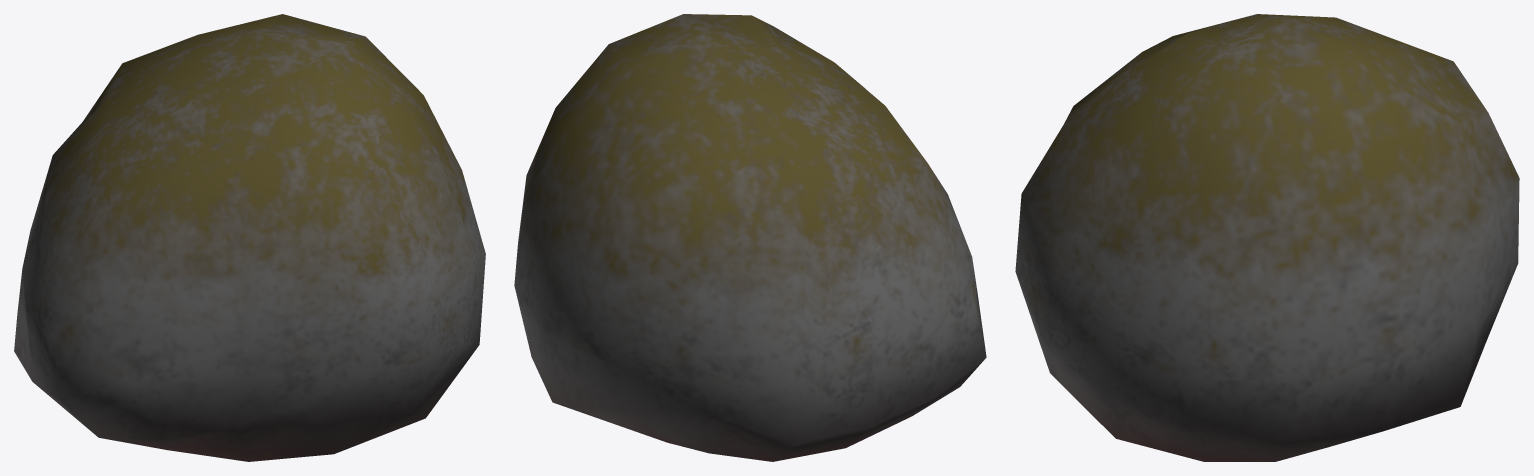
File: Rock1.fbx
3 views of the same model, side by side, from view 1: azimuth 30°, elevation 25°; view 2: azimuth 150°, elevation 25°; view 3: azimuth 270°, elevation 25° (orthographic). The views are drawn at different scales.
Visible parts, largest first — view 1: Rock1_LOD0; view 2: Rock1_LOD0; view 3: Rock1_LOD0.
Boxes of the visible parts, x1,y1,x2,y2 form: Rock1_LOD0: (14, 14, 485, 461); Rock1_LOD0: (514, 14, 986, 461); Rock1_LOD0: (1015, 14, 1519, 461).
Size of what is drawn, in the model's own units: 1.63 by 1.39 by 1.57.
